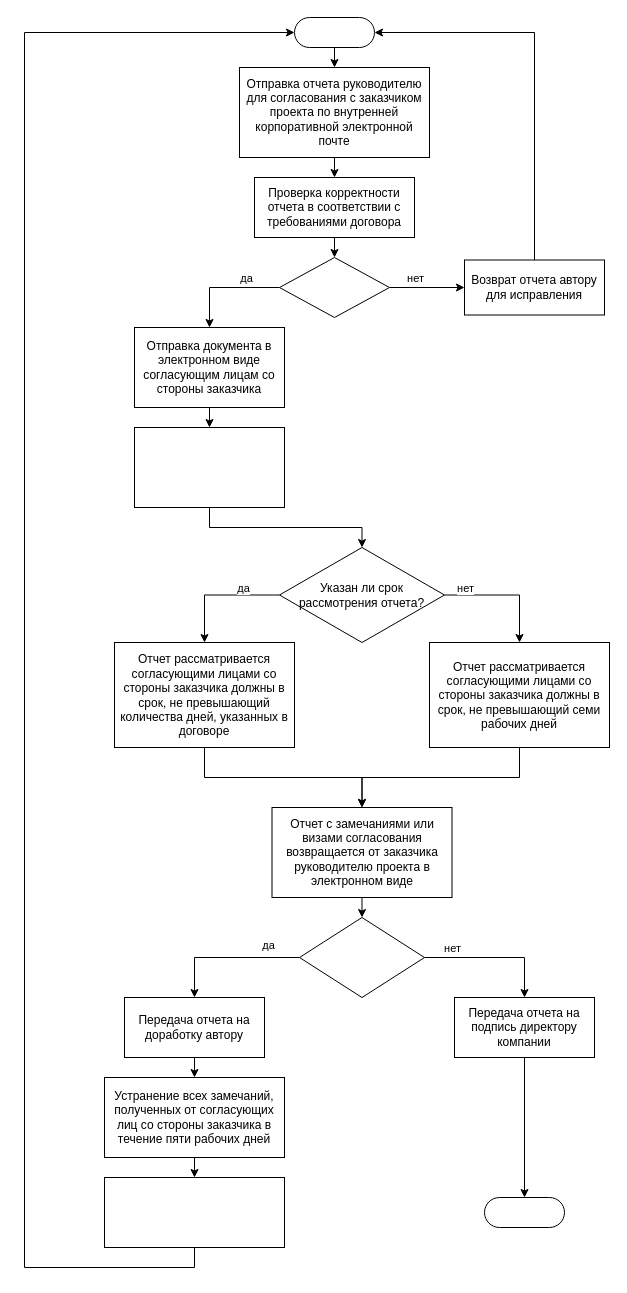
This 627x1293 diagram has some shape labels left out. Each missing label, with the centre of its shape:
Все верно?: the point at 334,287
Есть замечания?: the point at 361,957
Конец: the point at 524,1212
Начало: the point at 334,32
Отправка копии электронного письма автору отчета: the point at 209,467
Подготовлена новая версия отчет, где в приложении приведен лист замечаний: the point at 194,1212
